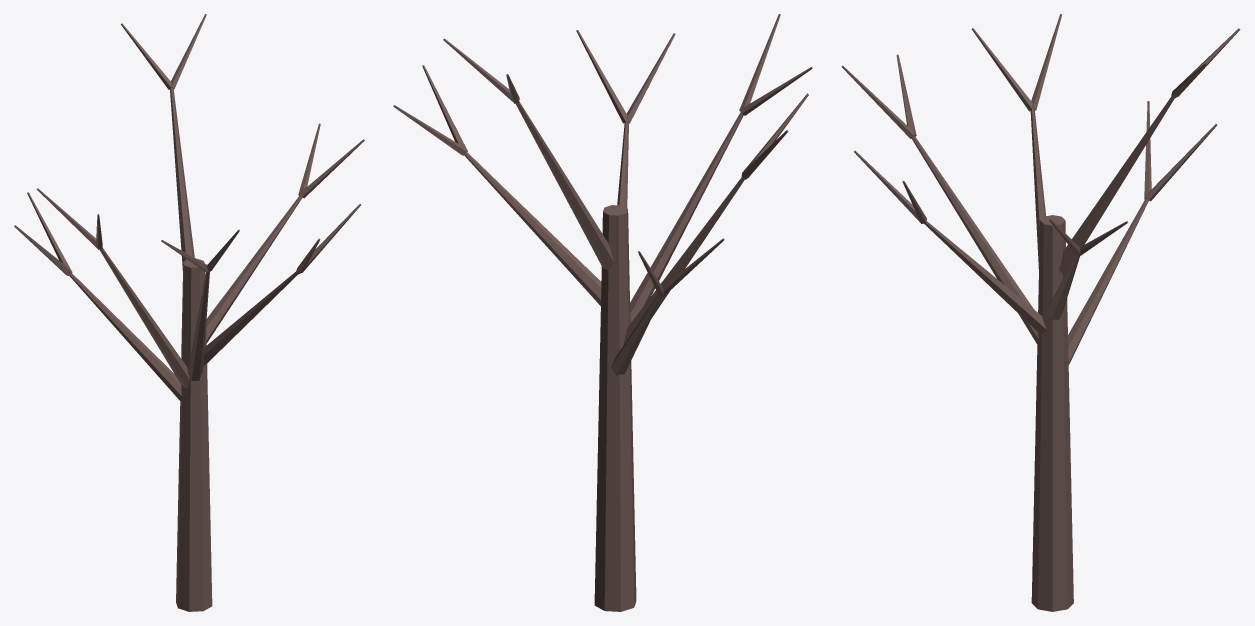
The model's file is TreeBare.glb.
3 views of the same model, side by side, from view 1: azimuth 30°, elevation 25°; view 2: azimuth 150°, elevation 25°; view 3: azimuth 270°, elevation 25° (orthographic). The views are drawn at different scales.
Visible parts, largest first — view 1: trunk, branch (×6); view 2: trunk, branch (×8); view 3: trunk, branch (×9).
Part boxes in pixels (box(x1,y1,x2,y2)): trunk: box(176, 258, 212, 611); branch (×6): box(70, 87, 302, 401); trunk: box(594, 205, 636, 611); branch (×8): box(464, 14, 780, 375); trunk: box(1031, 215, 1073, 611); branch (×9): box(911, 14, 1217, 364).
Bounding box in the file's own units: 2.97 × 4.58 × 2.83.
